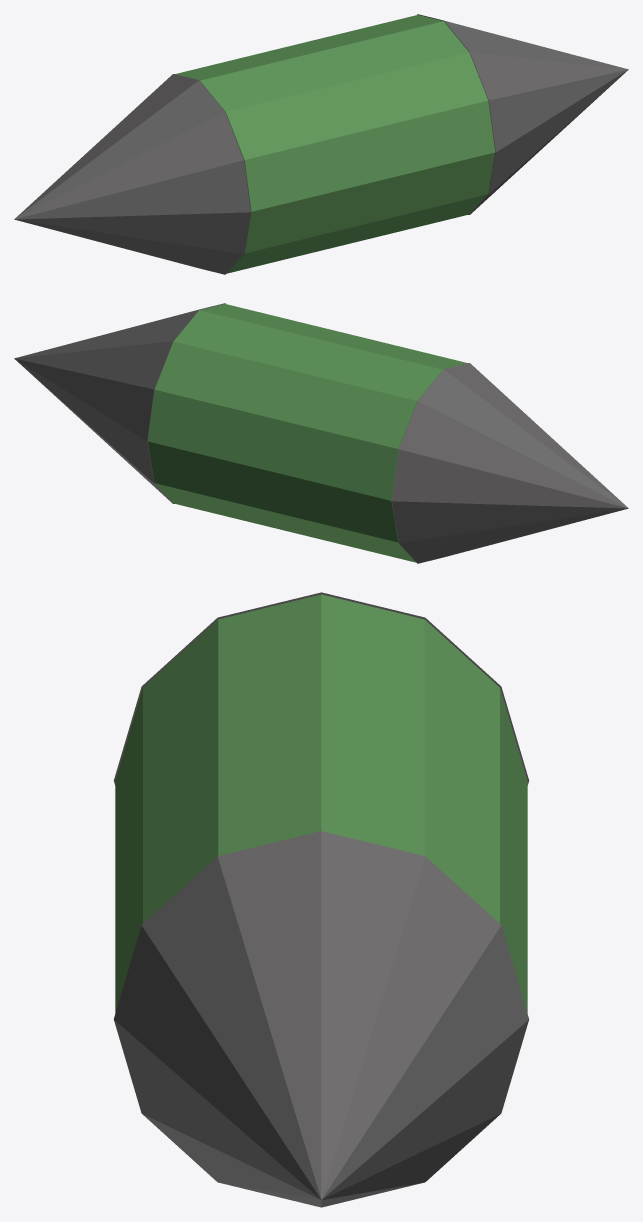
Rendered from WeaponDrive.fbx.
The picture shows the model from 3 angles, top to bottom: view 1: azimuth 30°, elevation 25°; view 2: azimuth 150°, elevation 25°; view 3: azimuth 270°, elevation 25°; orthographic projection. The views are drawn at different scales.
Parts seen in each view (by area): view 1: pCylinder1, pCone2, pCone1; view 2: pCylinder1, pCone2, pCone1; view 3: pCone1, pCylinder1, pCone2.
Boxes of the visible parts, <box> form: pCylinder1: <box>175,15,495,273</box>; pCone2: <box>14,74,250,274</box>; pCone1: <box>417,14,628,214</box>; pCylinder1: <box>147,304,467,562</box>; pCone2: <box>392,363,628,563</box>; pCone1: <box>14,303,225,503</box>; pCone1: <box>113,831,529,1207</box>; pCylinder1: <box>115,594,527,1012</box>; pCone2: <box>113,592,529,785</box>.
Bounding box in the file's own units: 13.36 × 3.91 × 3.91.
